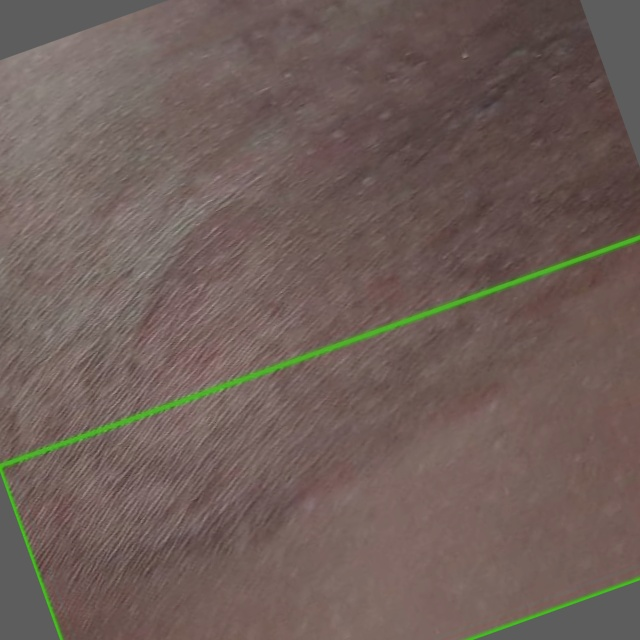Tinea Corporis: (0, 237, 639, 639)
